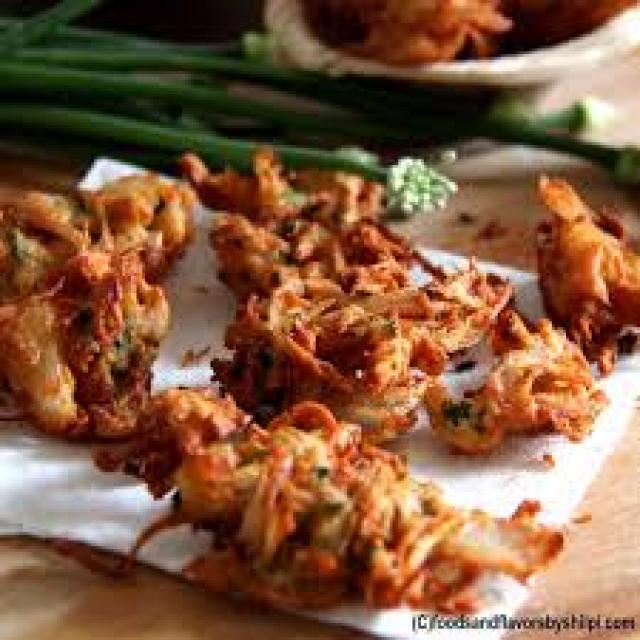BAJI: (189, 151, 613, 443), (109, 396, 568, 600), (0, 175, 201, 441), (541, 172, 637, 362)
